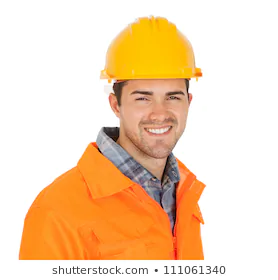Helmet: (98, 15, 203, 81)
